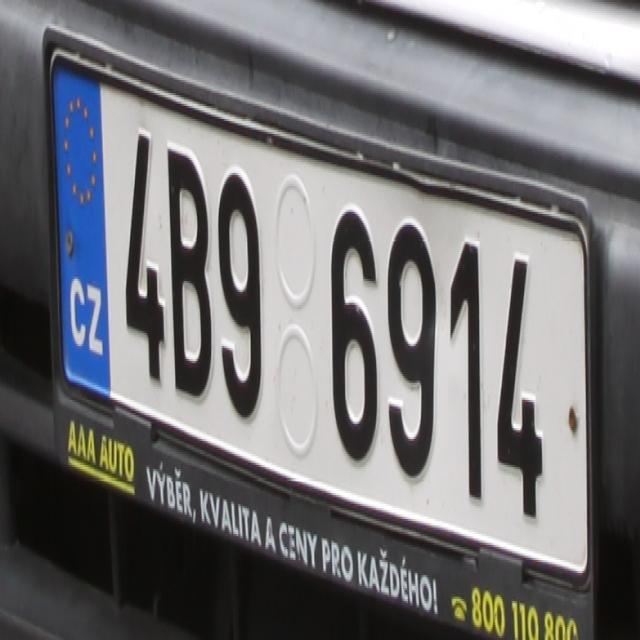1: (447, 236, 483, 504)
4: (495, 253, 547, 521), (122, 117, 166, 385)
6: (330, 205, 379, 467)
9: (386, 216, 436, 480), (217, 166, 264, 418)
B: (164, 145, 214, 400)
